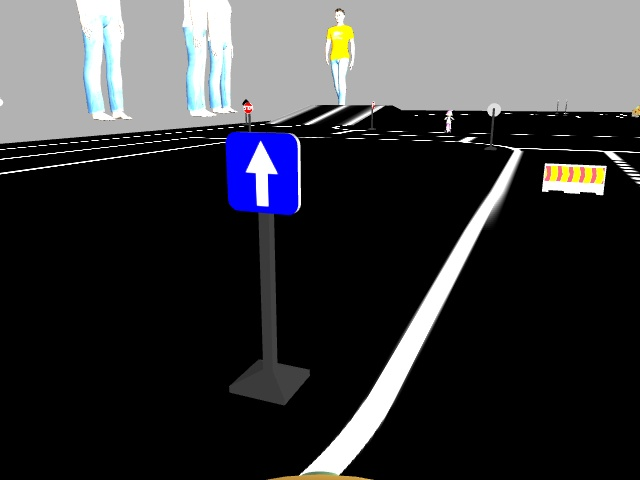ClosedRoadStand: (545, 164, 604, 193)
OneWay: (226, 130, 303, 211)
